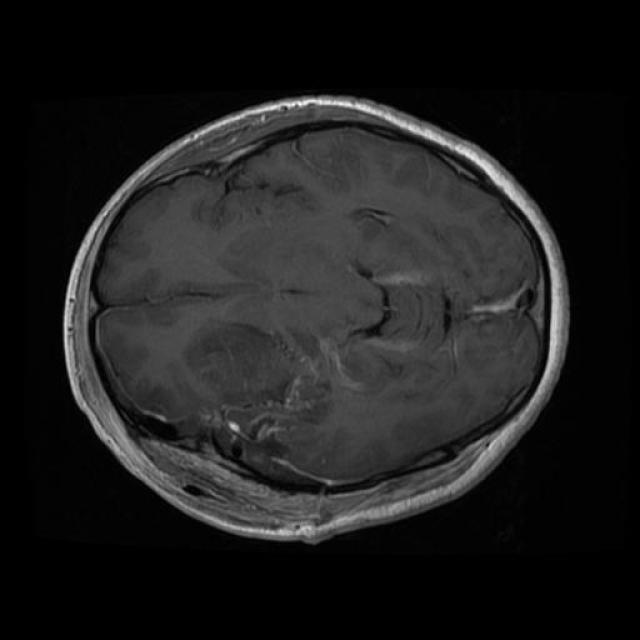Glioma: (176, 322, 332, 489)
